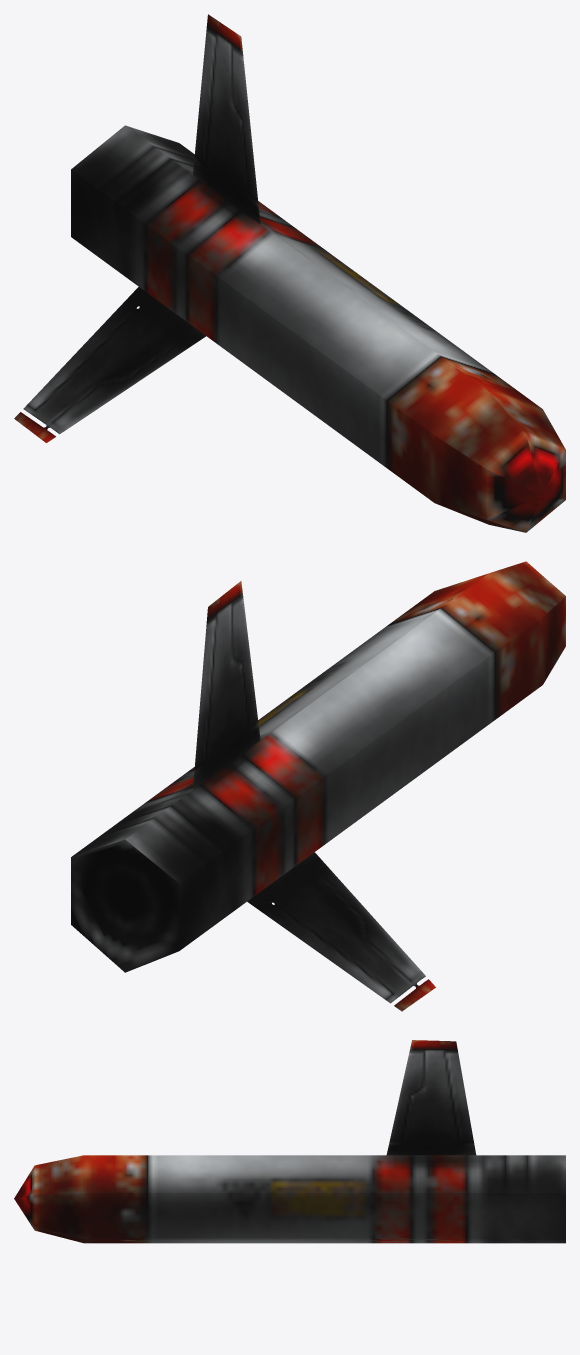
Rendered from rocket.gltf.
3 renders of one model, top to bottom at view 1: azimuth 30°, elevation 25°; view 2: azimuth 150°, elevation 25°; view 3: azimuth 270°, elevation 25°, orthographic. The views are drawn at different scales.
Visible parts, largest first — view 1: rocket; view 2: rocket; view 3: rocket.
Part boxes in pixels (box(x1,y1,x2,y2)): rocket: box(14, 14, 565, 532); rocket: box(71, 561, 565, 1011); rocket: box(14, 1040, 565, 1243).
Size of the model in its own units: 0.4467 by 0.3934 by 0.8272.
Materials: 2 (2 with a texture image).
